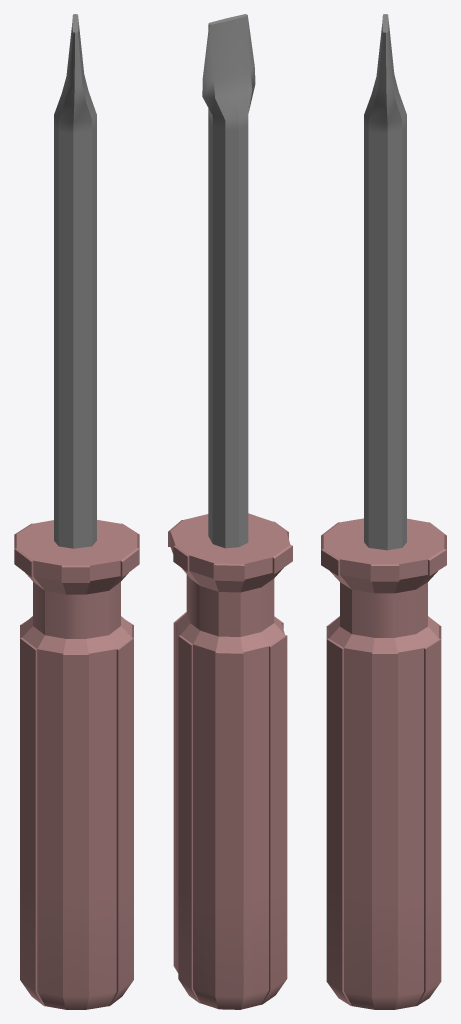
The model's file is Screwdriver_exp.fbx.
The picture shows the model from 3 angles, left to right: view 1: azimuth 90°, elevation 25°; view 2: azimuth 210°, elevation 25°; view 3: azimuth 270°, elevation 25°; orthographic projection.
Parts seen in each view (by area): view 1: pCube1; view 2: pCube1; view 3: pCube1.
Boxes of the visible parts, left/top/right/bottom form: pCube1: left=14, top=14, right=139, bottom=1009; pCube1: left=168, top=14, right=292, bottom=1009; pCube1: left=321, top=14, right=446, bottom=1009.
Size of the model in its own units: 1.46 by 13.42 by 1.57.
